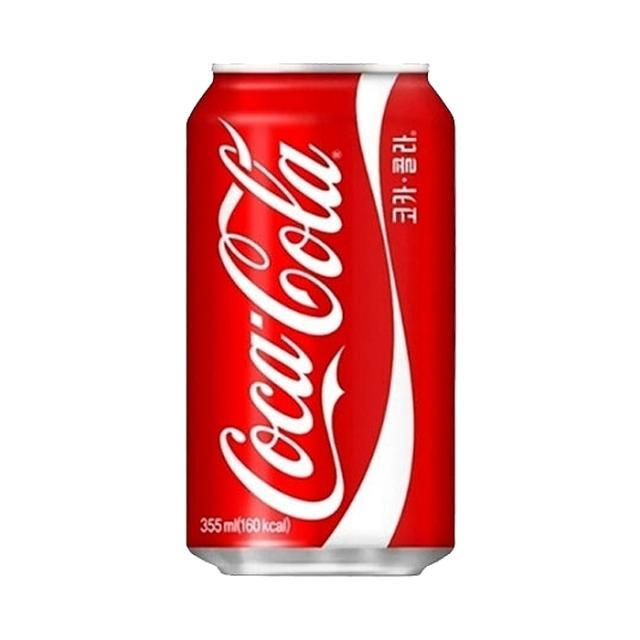coca-cola: (178, 56, 462, 584)
